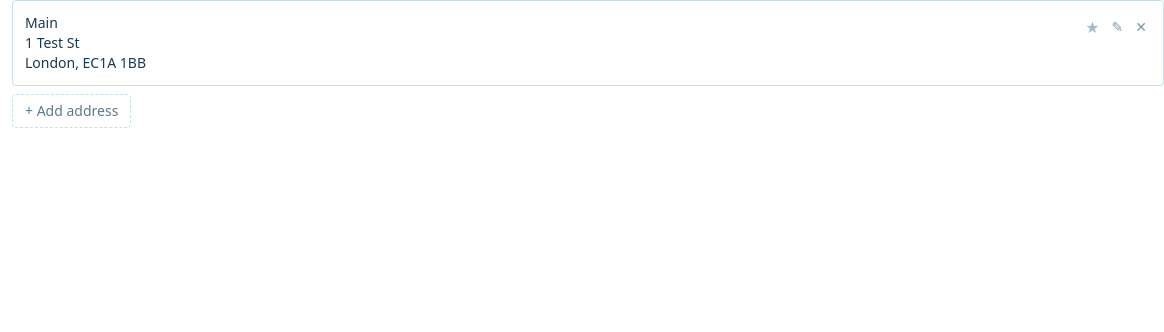
Scenario: AddressList — edit › saveEdit shows error when line1 is empty
Click the button titled "Edit". click: (1117, 27)
box: [1108,13,1127,41]
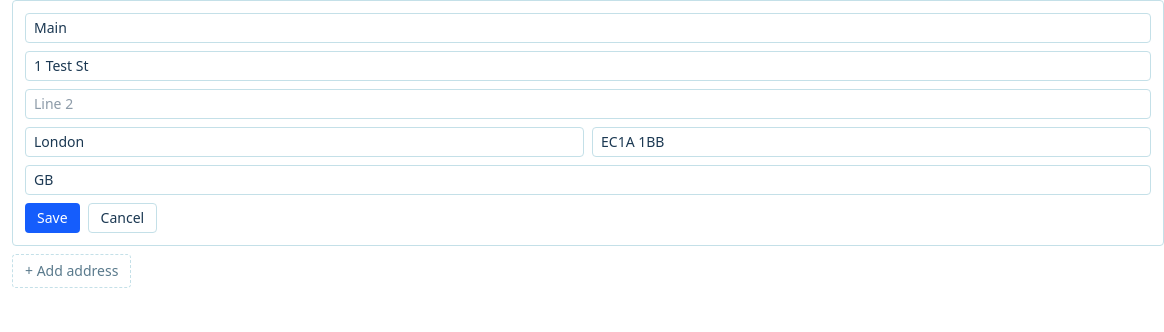
Clear the 2nd field with placeholder "Line 1 *". click: (588, 66)
box: [25,51,1151,81]
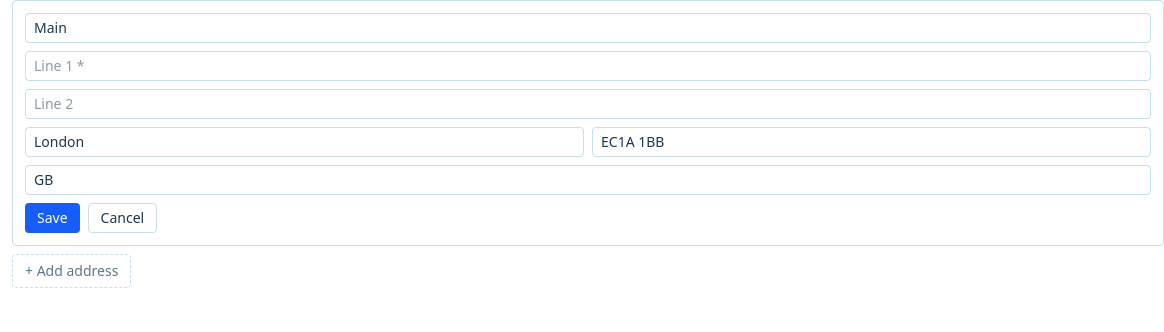
Click the button "Save". click: (52, 218)
box: [25,203,80,233]
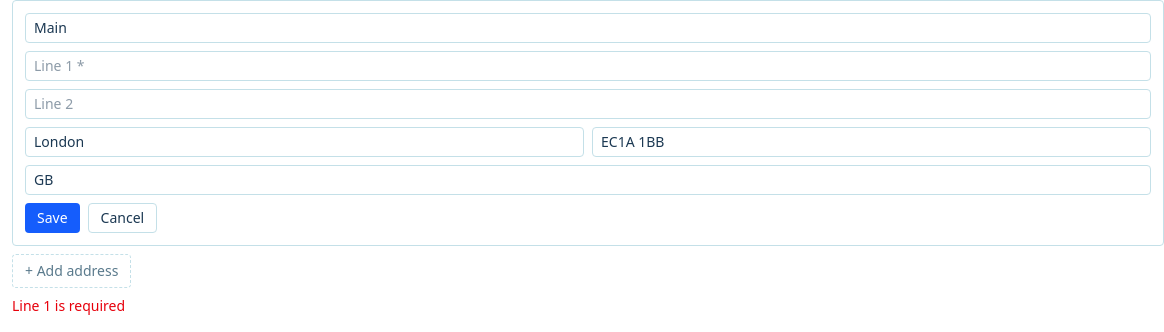
Check: the text "Line 1 is required" is shown, box [12,296,125,315]
